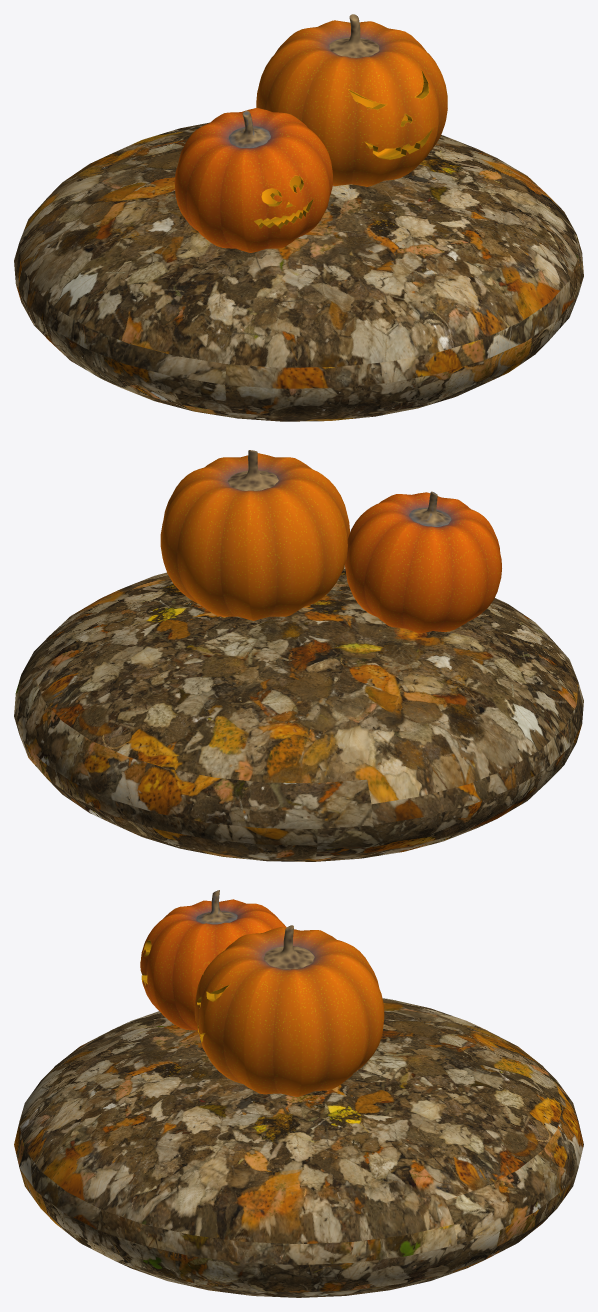
The picture shows the model from 3 angles, top to bottom: view 1: azimuth 30°, elevation 25°; view 2: azimuth 150°, elevation 25°; view 3: azimuth 270°, elevation 25°; orthographic projection.
Visible parts, largest first — view 1: Ground, Pumpkin1_Baked, Pumpkin2_Baked; view 2: Ground, Pumpkin1_Baked, Pumpkin2_Baked; view 3: Ground, Pumpkin1_Baked, Pumpkin2_Baked.
Boxes of the visible parts, box(x1,y1,x2,y2) form: Ground: box(14, 122, 583, 421); Pumpkin1_Baked: box(256, 14, 447, 186); Pumpkin2_Baked: box(174, 108, 332, 252); Ground: box(14, 565, 583, 861); Pumpkin1_Baked: box(160, 450, 349, 620); Pumpkin2_Baked: box(345, 491, 501, 633); Ground: box(14, 998, 583, 1297); Pumpkin1_Baked: box(194, 925, 384, 1096); Pumpkin2_Baked: box(140, 890, 286, 1030).
Bounding box in the file's own units: 4.59 × 3.01 × 4.59.
Materials: 3 (3 with a texture image).
